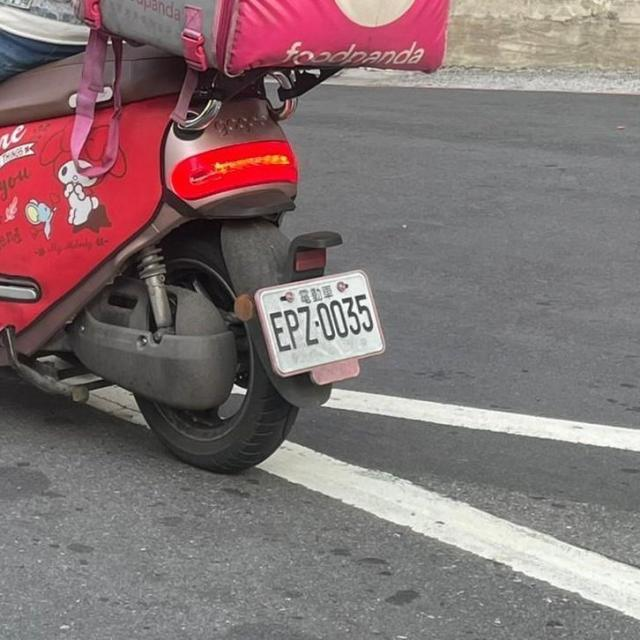W: (246, 256, 398, 382)
